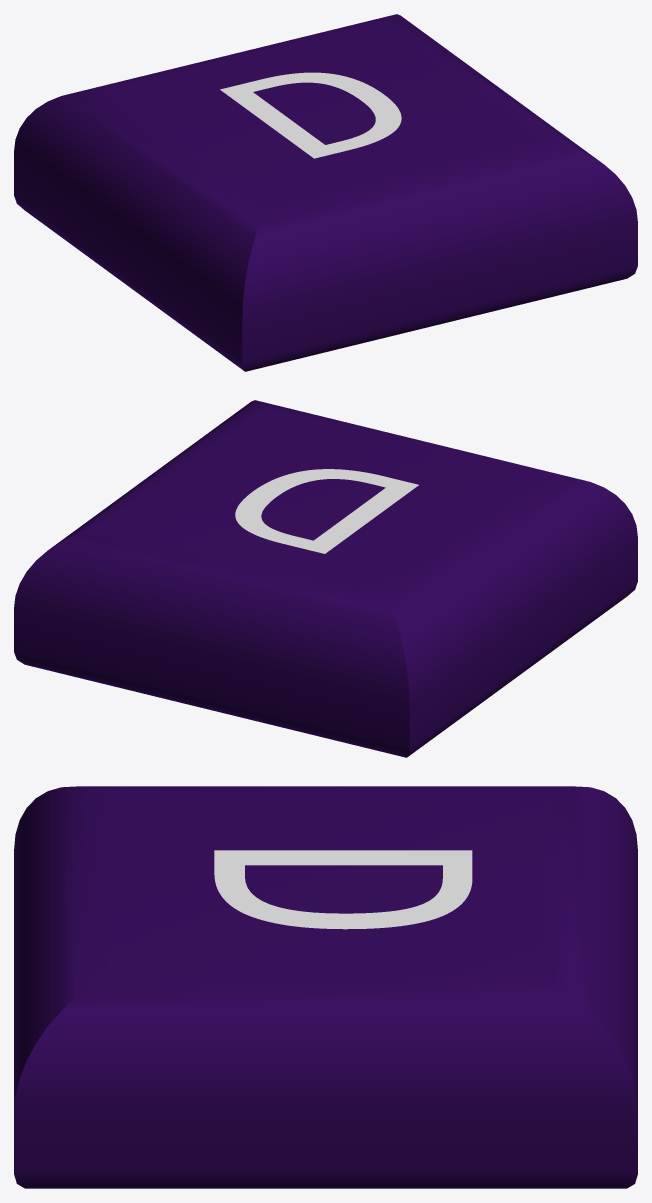
Rendered from d-key.glb.
The picture shows the model from 3 angles, top to bottom: view 1: azimuth 30°, elevation 25°; view 2: azimuth 150°, elevation 25°; view 3: azimuth 270°, elevation 25°; orthographic projection. The views are drawn at different scales.
Parts seen in each view (by area): view 1: Cube, Text; view 2: Cube, Text; view 3: Cube, Text.
Part boxes in pixels (x1=…): Cube: x1=14, y1=14, x2=637, y2=371; Text: x1=220, y1=72, x2=401, y2=158; Cube: x1=14, y1=400, x2=637, y2=757; Text: x1=235, y1=469, x2=418, y2=553; Cube: x1=14, y1=786, x2=637, y2=1188; Text: x1=214, y1=850, x2=472, y2=929.
Bounding box in the file's own units: 1.34 × 0.4228 × 1.34.
